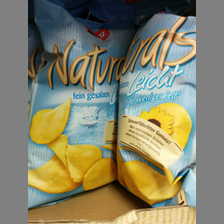chips: (29, 1, 120, 206), (115, 4, 197, 209)
